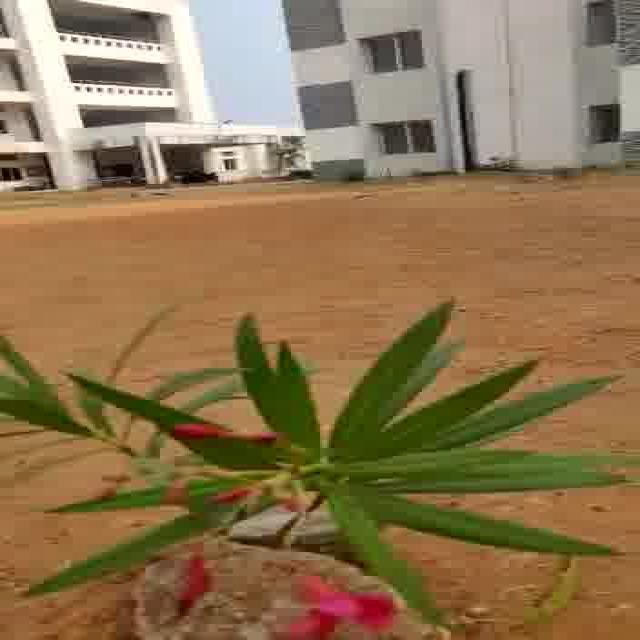Oleander: (24, 319, 614, 640)
